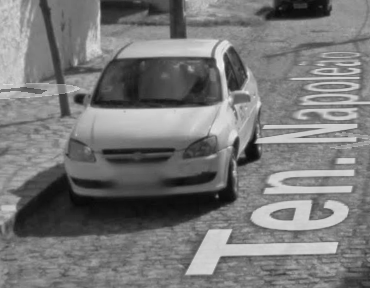car: (61, 34, 266, 214)
